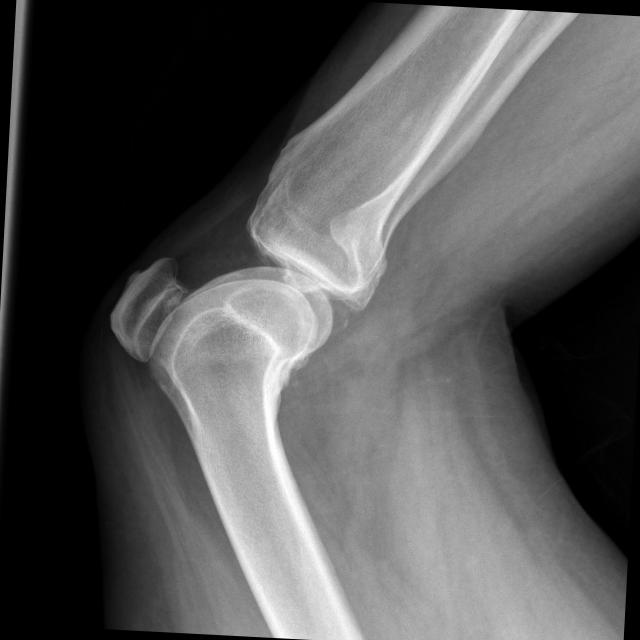Knee: (100, 190, 391, 404)
